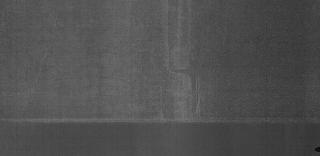punching hole: (314, 146, 320, 154)
welding line: (1, 118, 320, 126)
